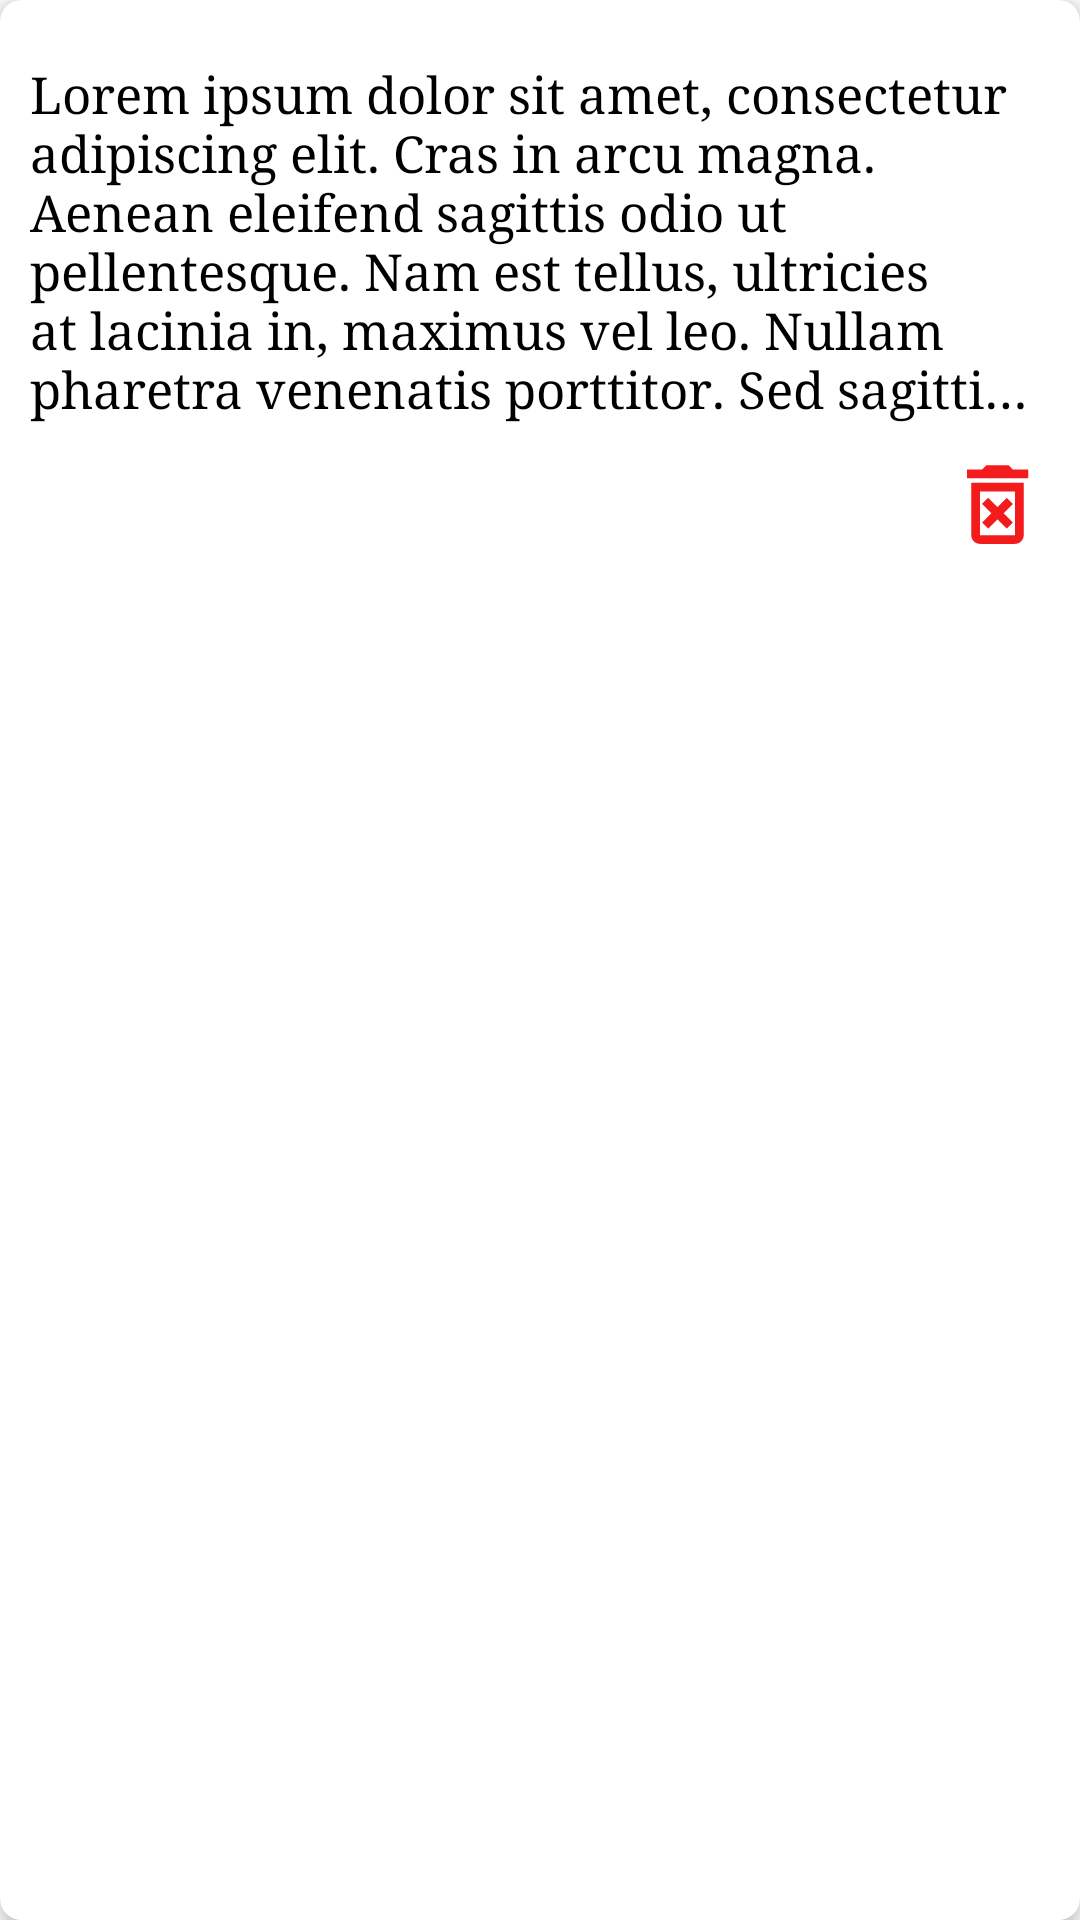

Named icons in this screenshot (1080*1920) and their centers, (x=x, y=y):
delete forever: (x=998, y=504)
